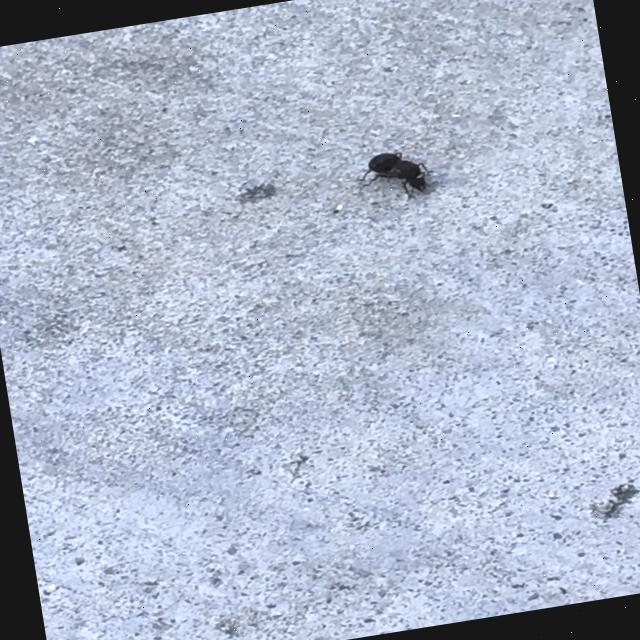Alive-Female-Dealate: (356, 146, 438, 208)
